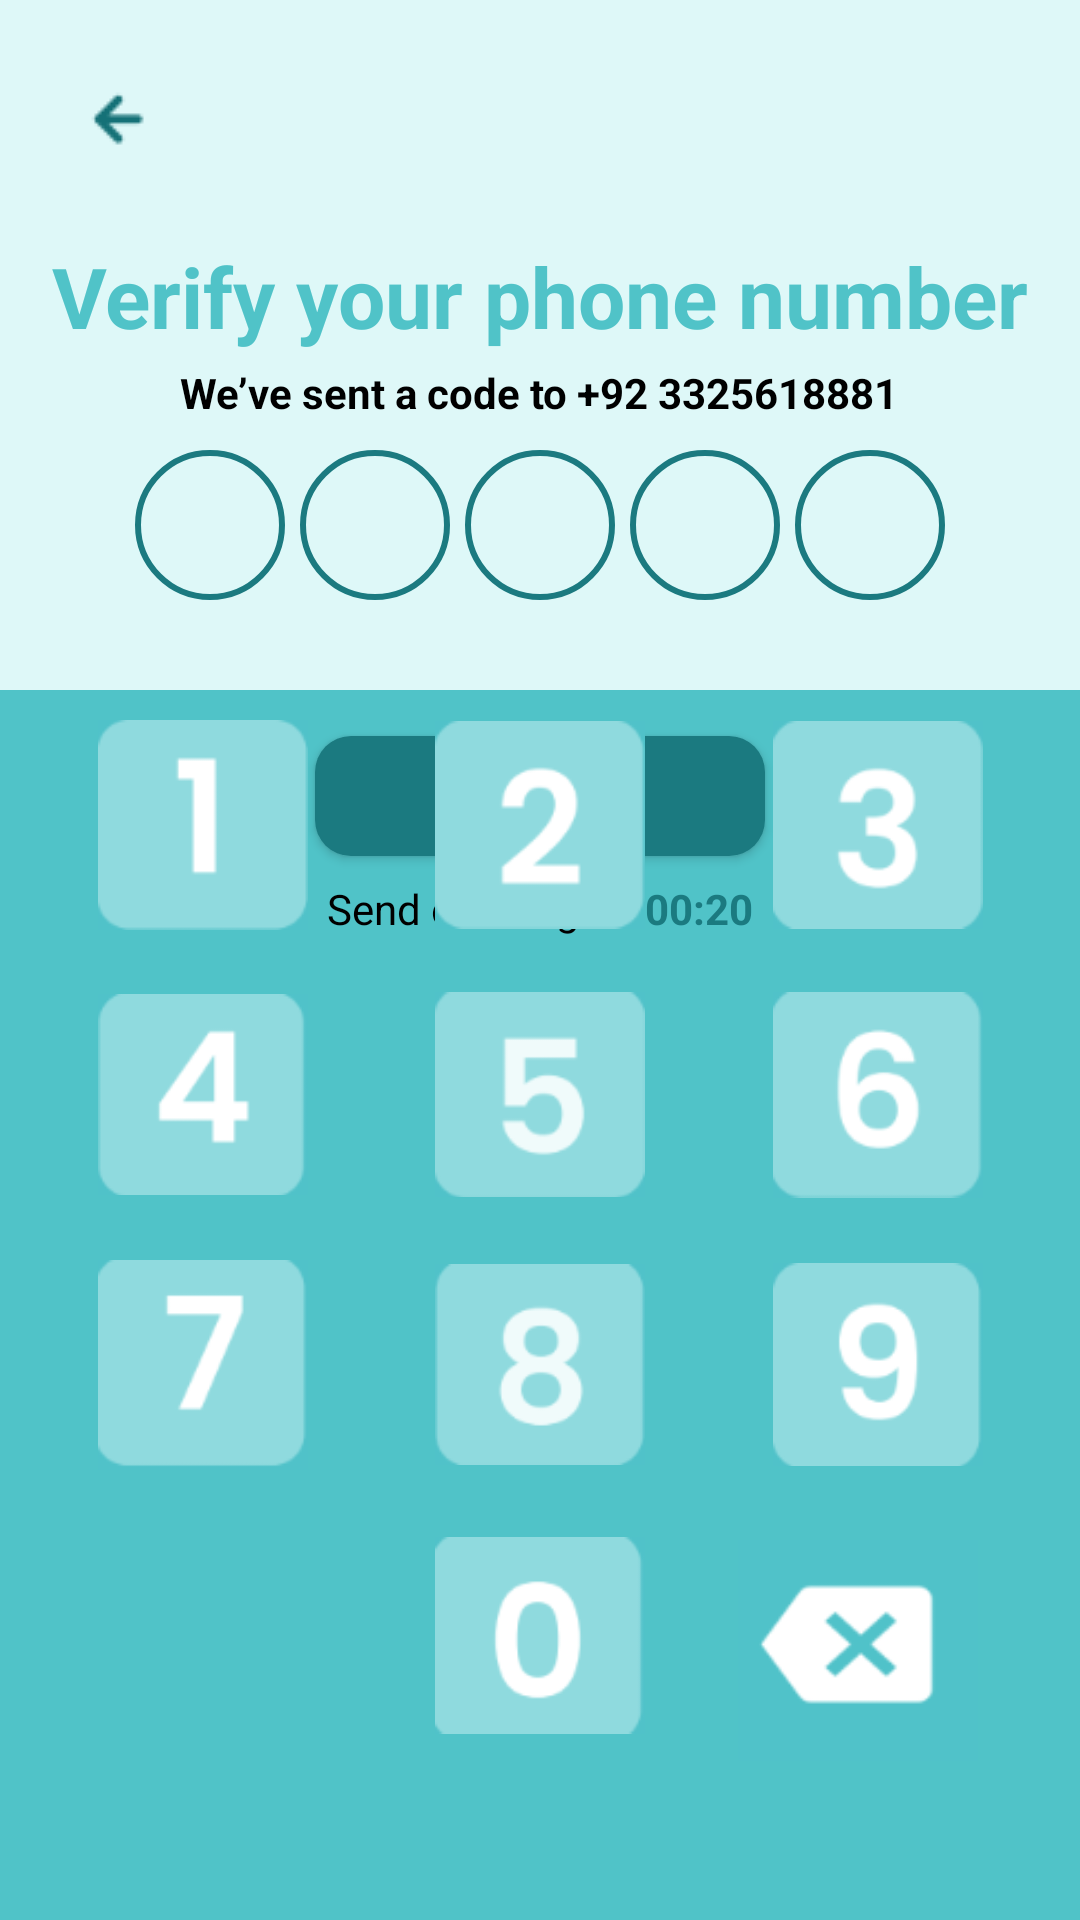

Locate icon controls on the screen. Image size 1080 x 1920, boxes as (x1, y1, x2, y2).
back: (93, 95, 144, 145)
